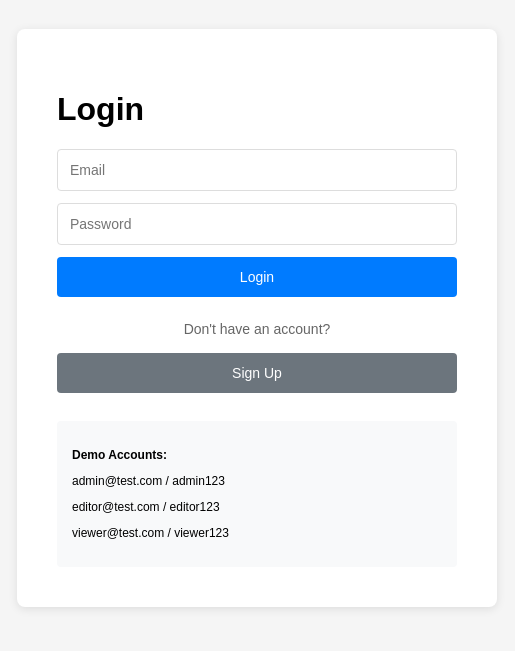
Scenario: MFA Login › shows error for invalid credentials
Type "wrong@test.com" into the field with test id "email" at (257, 170), box [57,149,457,191]
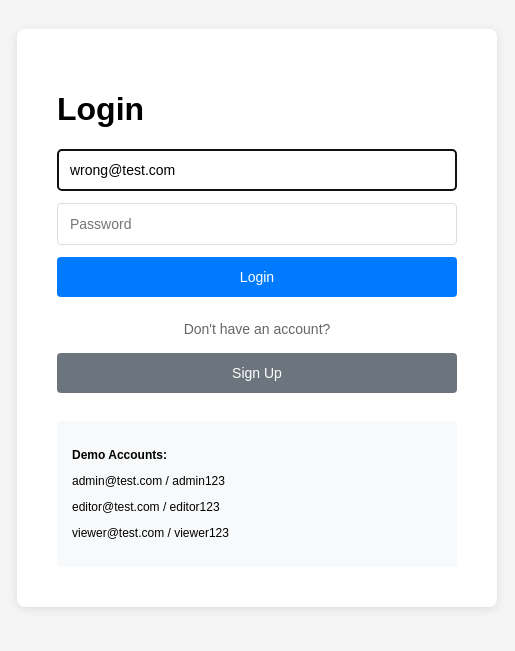
Type "wrong" into the password field with test id "password" at (257, 224), box [57,203,457,245]
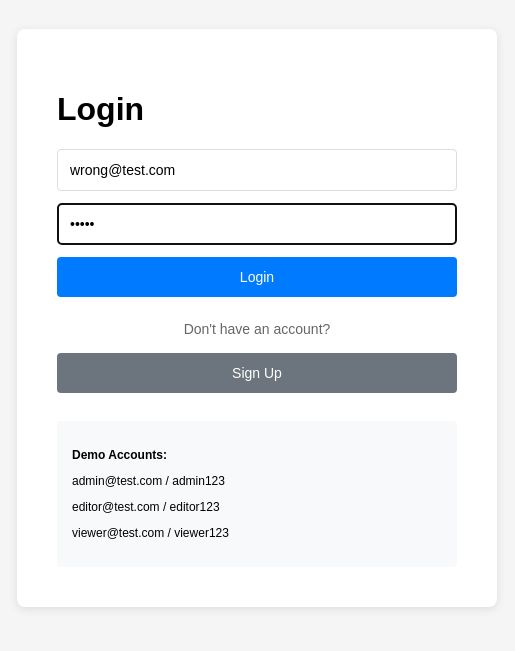
Click the button with test id "login-btn" at (257, 277), box [57,257,457,297]
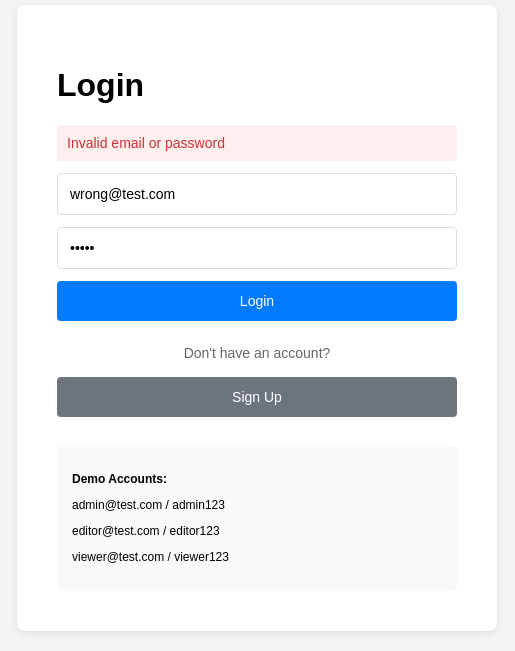
Expected: the text "Invalid email or password" is shown, [57,125,457,161]
